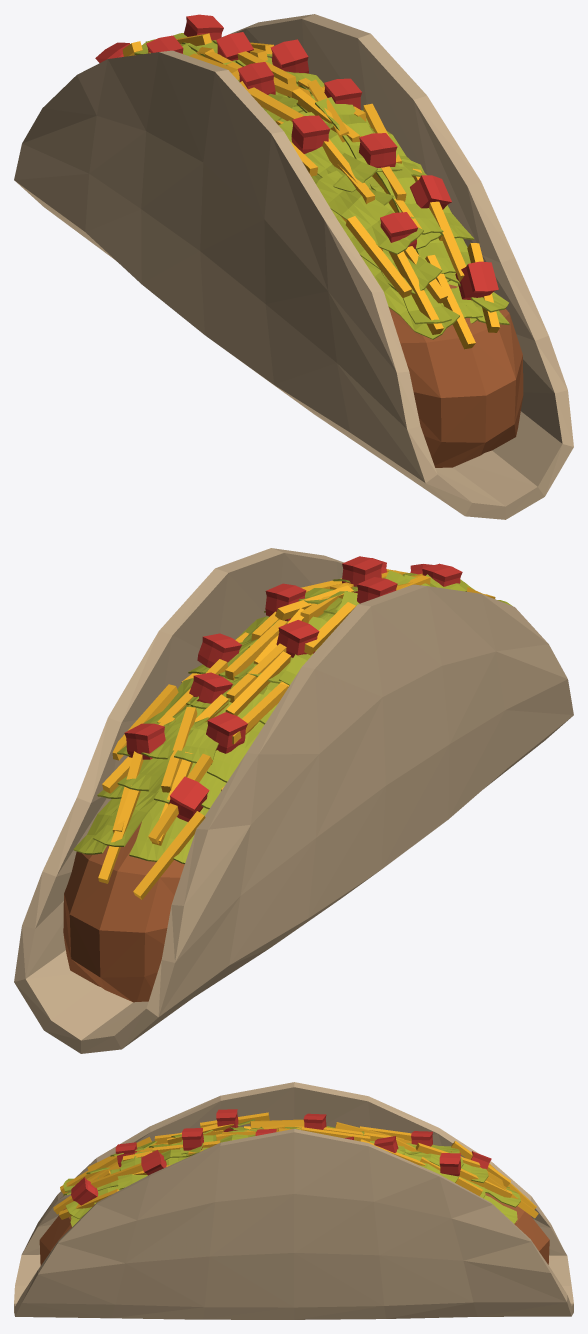
File: taco1.glb
3 renders of one model, top to bottom at view 1: azimuth 30°, elevation 25°; view 2: azimuth 150°, elevation 25°; view 3: azimuth 270°, elevation 25°, orthographic. The views are drawn at different scales.
Visible parts, largest first — view 1: Object_5, Object_4, Object_6, Object_7, Object_8; view 2: Object_5, Object_7, Object_6, Object_4, Object_8; view 3: Object_5, Object_7, Object_4, Object_8, Object_6.
Part boxes in pixels (box(x1,y1,x2,y2)): Object_5: box(14, 14, 573, 519); Object_4: box(134, 33, 509, 339); Object_6: box(361, 256, 523, 467); Object_7: box(122, 33, 499, 349); Object_8: box(95, 14, 498, 300); Object_5: box(14, 548, 573, 1053); Object_7: box(98, 569, 495, 899); Object_6: box(63, 822, 184, 1002); Object_4: box(73, 570, 511, 863); Object_8: box(124, 556, 462, 821); Object_5: box(14, 1082, 573, 1319); Object_7: box(53, 1112, 538, 1219); Object_4: box(63, 1119, 520, 1226); Object_8: box(71, 1109, 491, 1205); Object_6: box(39, 1193, 549, 1265).
Size of the model in its own units: 0.4296 by 0.6899 by 1.7.
